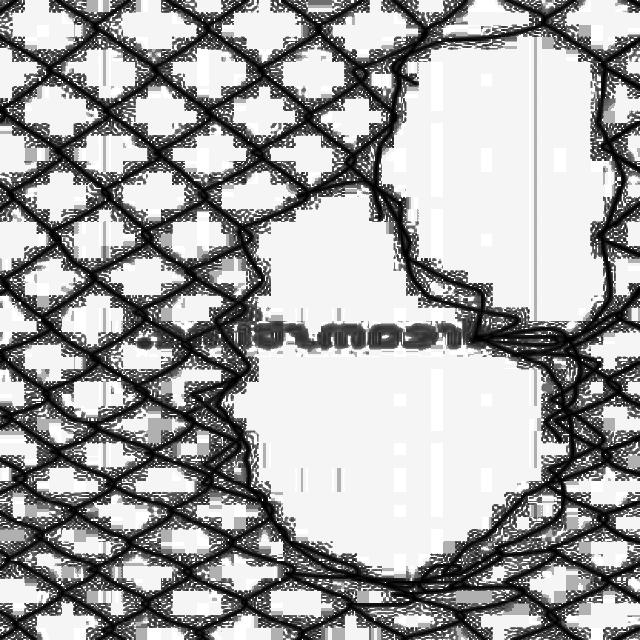anomaly-fence: (194, 11, 640, 595)
